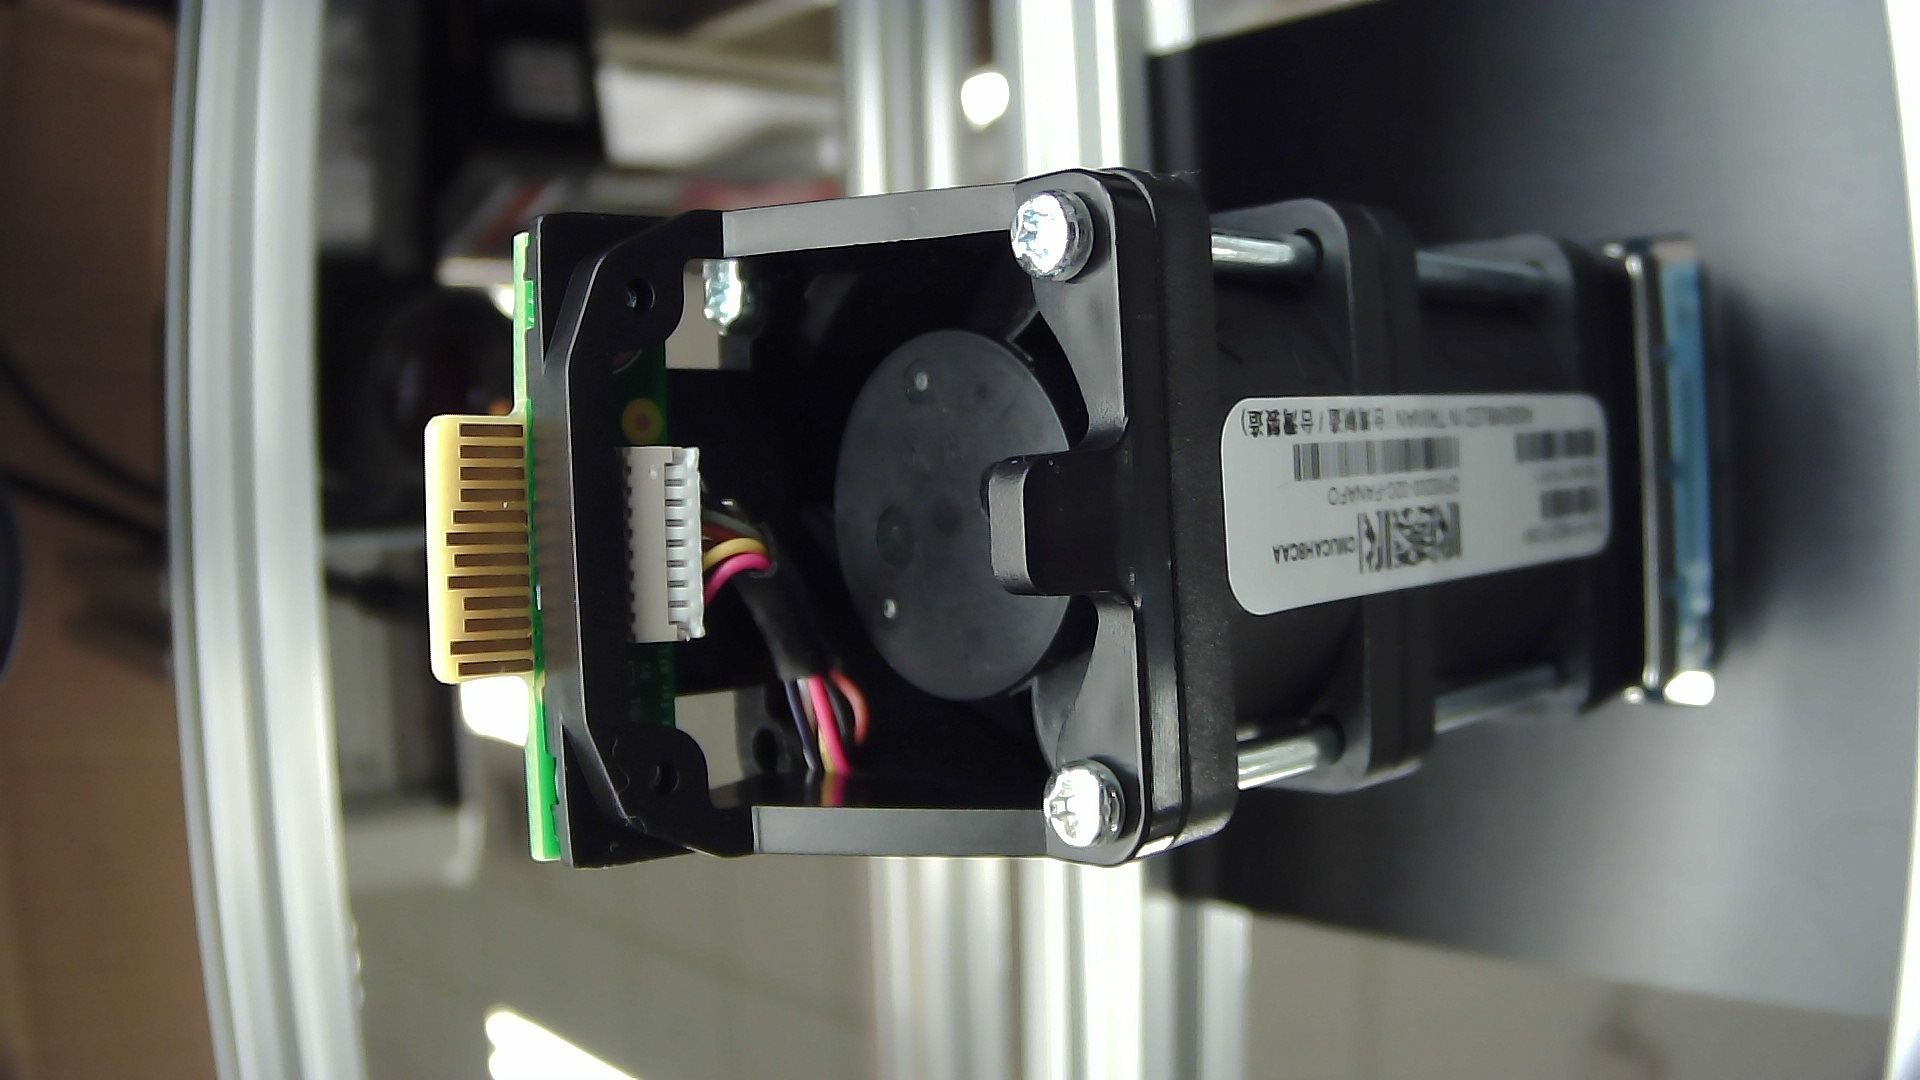8_0: (394, 173, 1801, 893)
